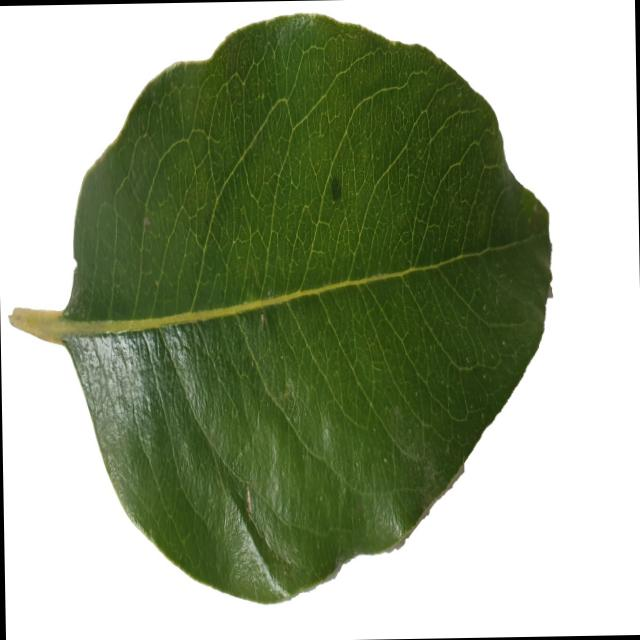Medicinal-Sandalwood: (5, 9, 558, 606)
